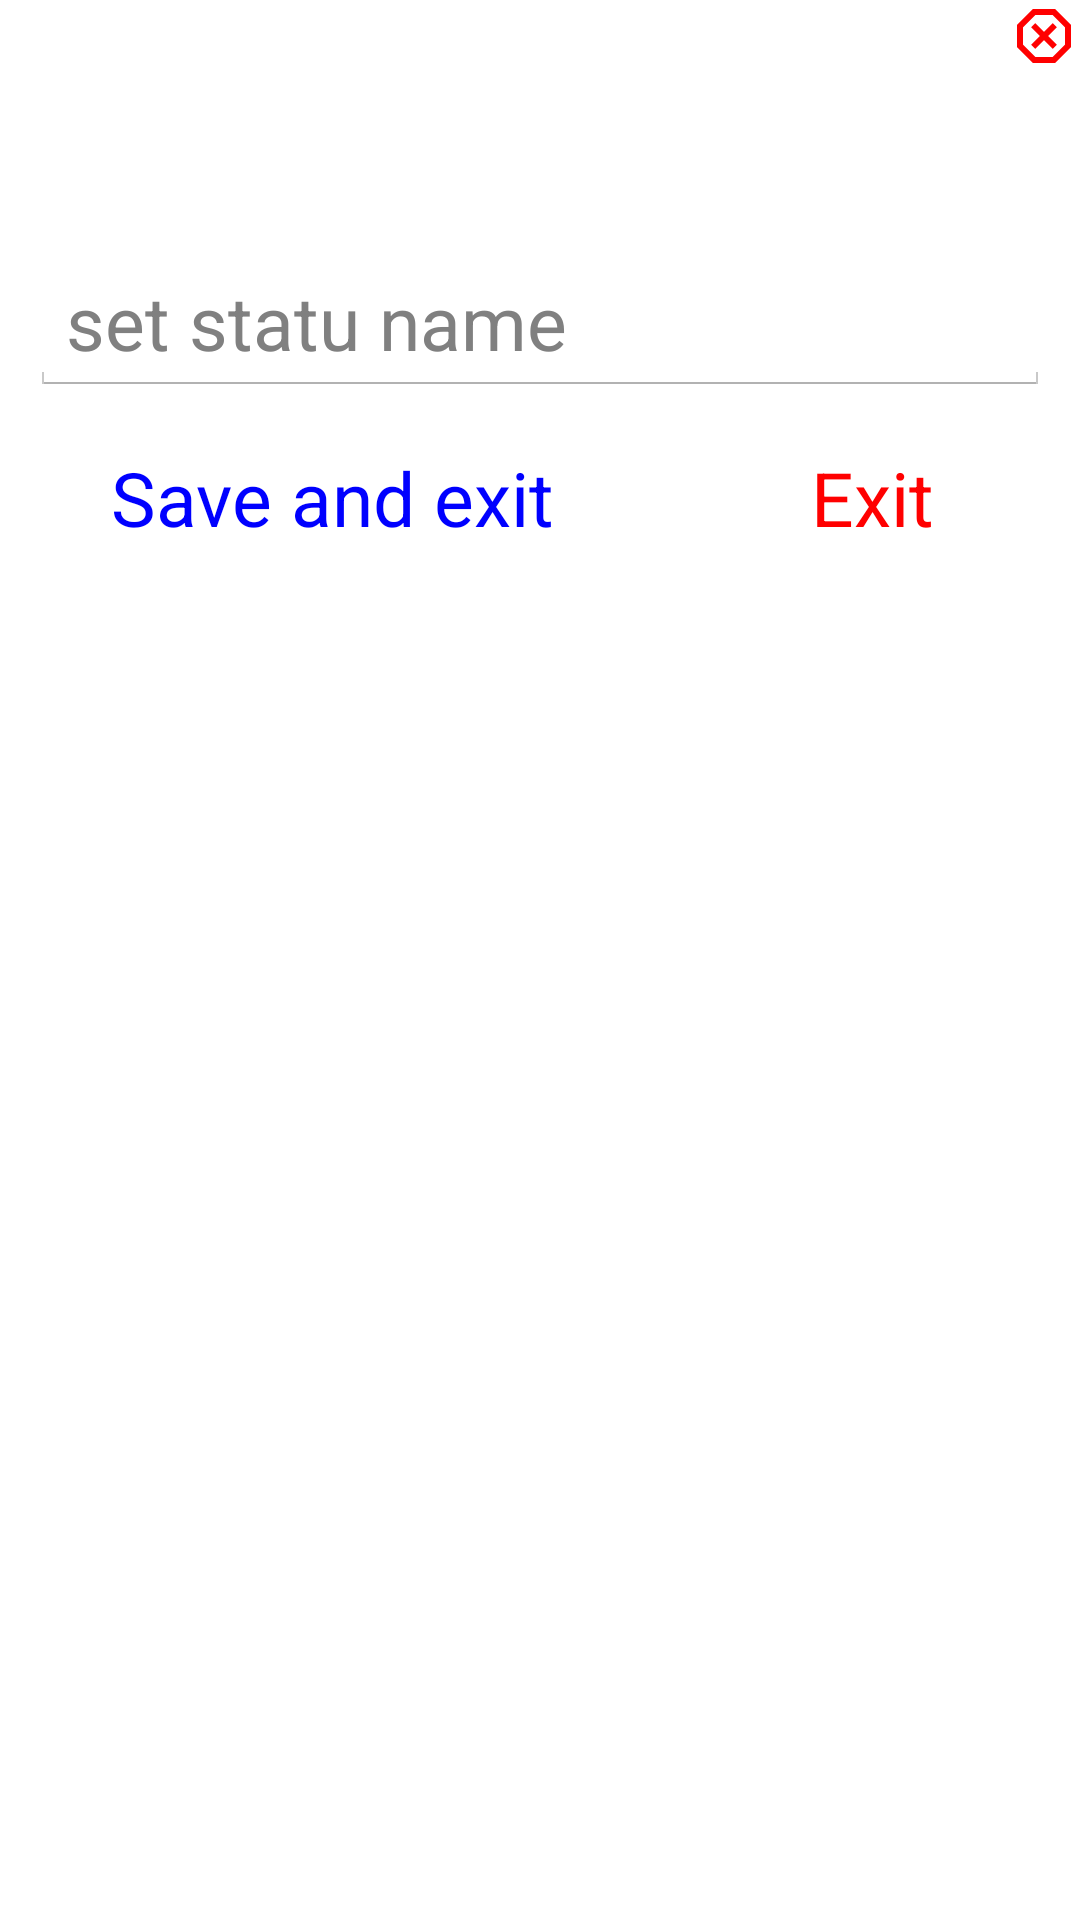

Named icons in this screenshot (1080x1920) and their bounding boxes, (x1, y1, x2, y2):
cancel: (1017, 9, 1071, 63)
